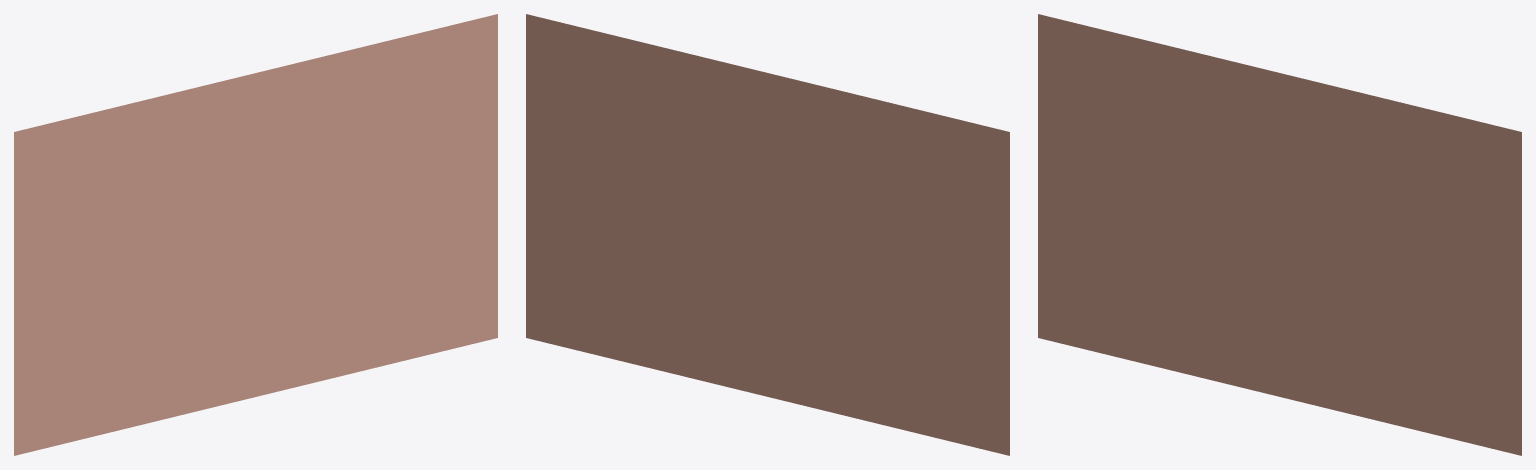
Rendered from morph.gltf.
3 renders of one model, left to right at view 1: azimuth 30°, elevation 25°; view 2: azimuth 150°, elevation 25°; view 3: azimuth 330°, elevation 25°, orthographic.
Visible parts, largest first — view 1: sheet; view 2: sheet; view 3: sheet.
Boxes of the visible parts, bbox=[...] form: sheet: bbox=[14, 14, 497, 455]; sheet: bbox=[526, 14, 1009, 455]; sheet: bbox=[1038, 14, 1521, 455].
Size of what is drawn, in the model's own units: 5 by 3.2 by 0.
